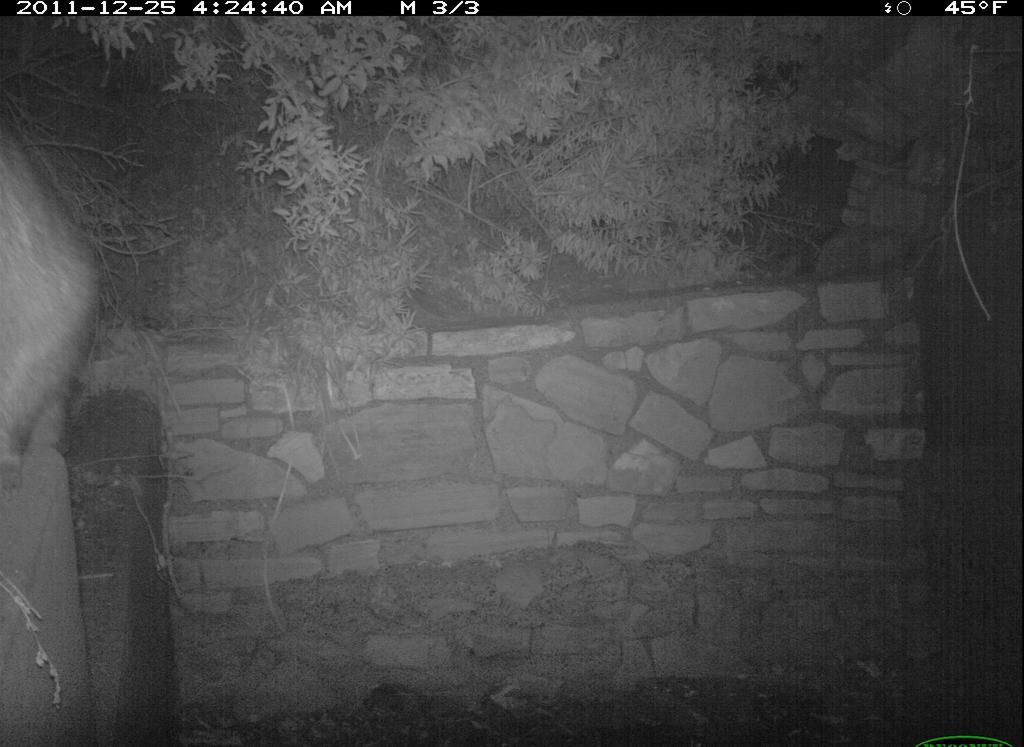raccoon: (1, 111, 120, 523)
